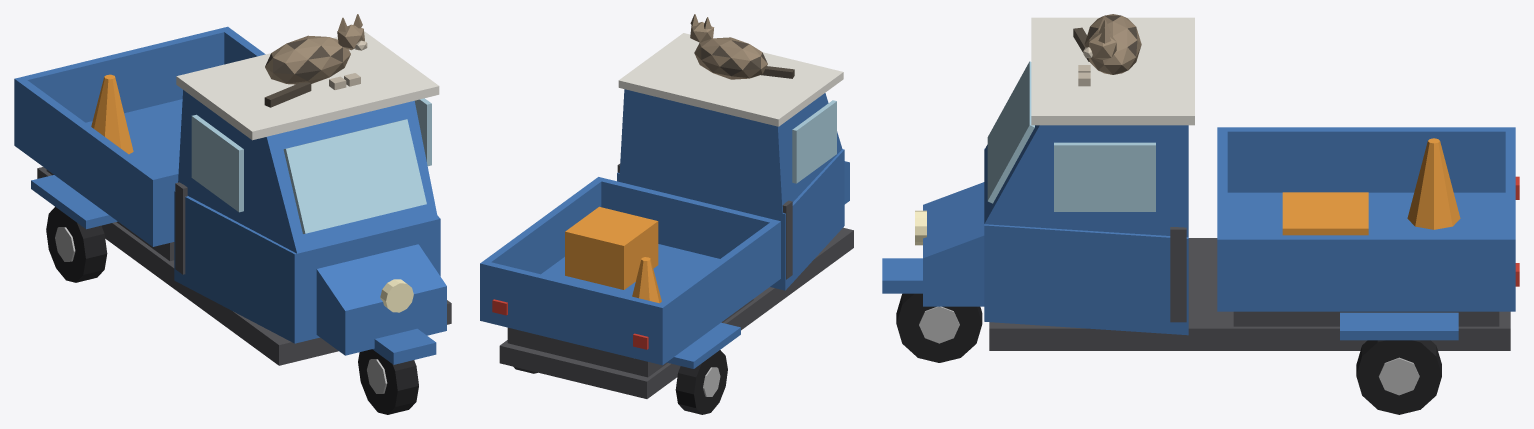
Rendered from truck.glb.
The picture shows the model from 3 angles, left to right: view 1: azimuth 30°, elevation 25°; view 2: azimuth 150°, elevation 25°; view 3: azimuth 270°, elevation 25°; orthographic projection. The views are drawn at different scales.
Visible parts, largest first — view 1: SG_Truck, SG_Cat; view 2: SG_Truck, SG_Cat; view 3: SG_Truck, SG_Cat.
Part boxes in pixels (x1,y1,x2,y2): SG_Truck: (14,26,451,414); SG_Cat: (264,14,367,107); SG_Truck: (480,33,853,414); SG_Cat: (690,14,794,79); SG_Truck: (882,17,1519,414); SG_Cat: (1073,14,1141,86).
Bounding box in the file's own units: 1.42 × 1.91 × 3.12.
